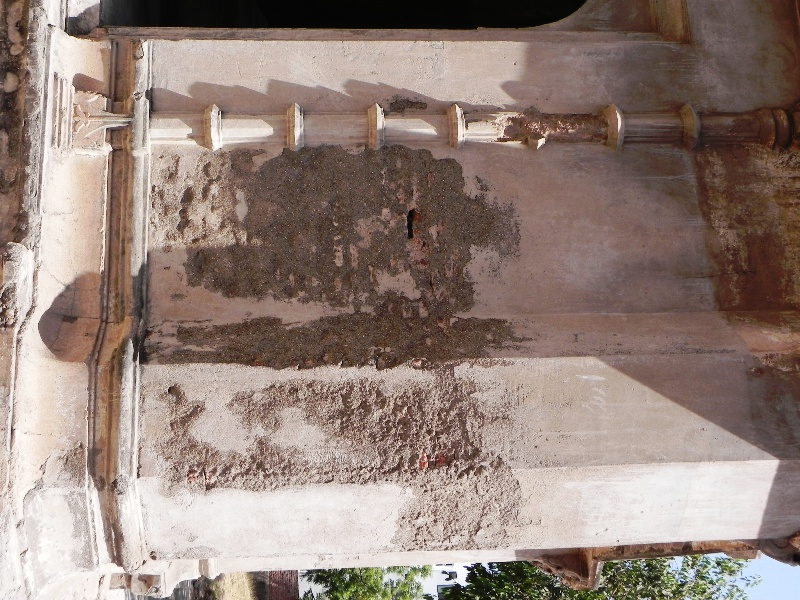Spalling: (157, 149, 509, 545), (503, 108, 608, 140)
